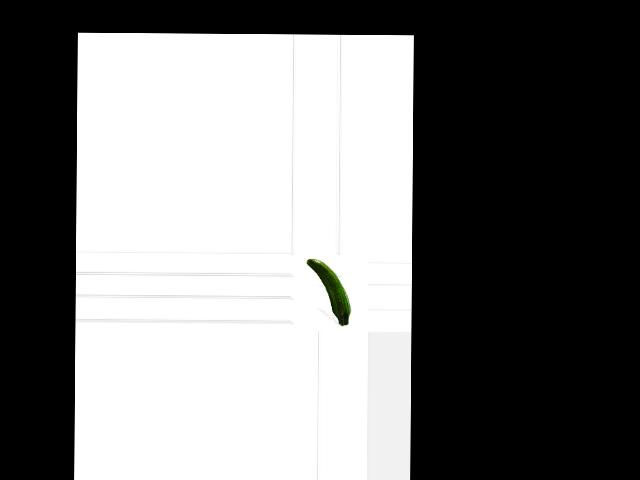cucumber: (305, 259, 350, 326)
